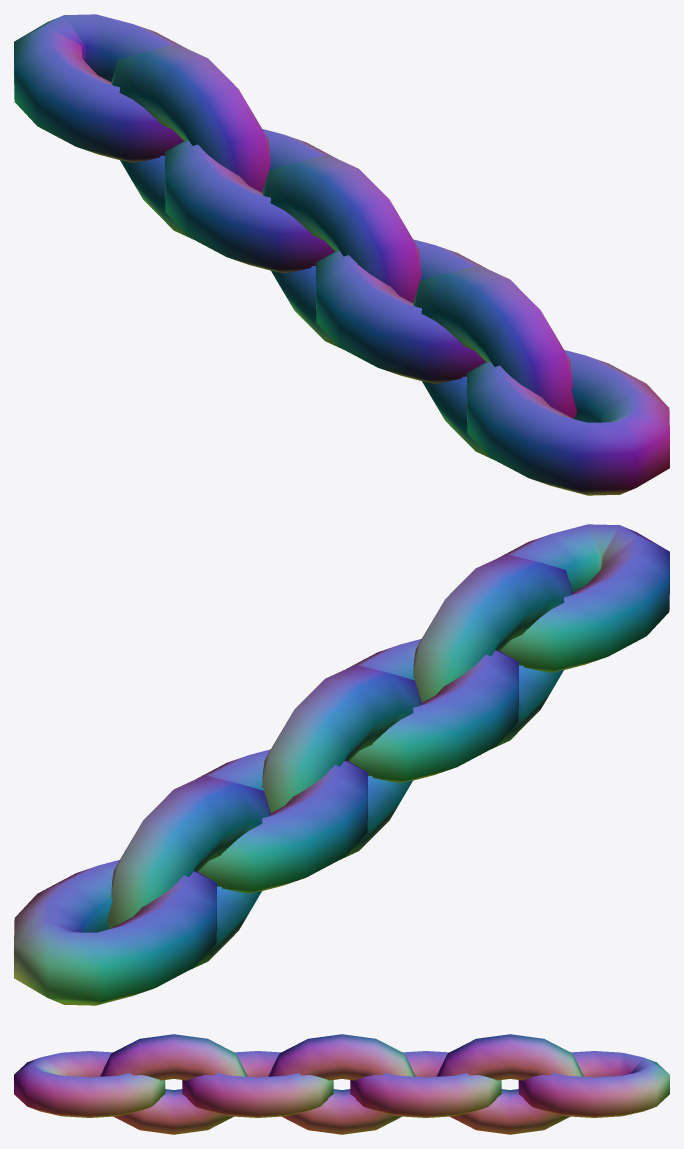
Rendered from SM_FX_Chain.fbx.
3 views of the same model, one above another, from view 1: azimuth 30°, elevation 25°; view 2: azimuth 150°, elevation 25°; view 3: azimuth 270°, elevation 25° (orthographic). The views are drawn at different scales.
Parts seen in each view (by area): view 1: SM_FX_Chain; view 2: SM_FX_Chain; view 3: SM_FX_Chain.
Boxes of the visible parts, bbox=[...] form: SM_FX_Chain: bbox=[14, 14, 669, 495]; SM_FX_Chain: bbox=[14, 524, 669, 1005]; SM_FX_Chain: bbox=[14, 1034, 669, 1134].
Size of the model in its own units: 0.0898 by 0.0898 by 0.5851.
